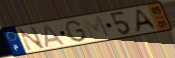5: (109, 9, 132, 37)
A: (135, 8, 160, 34), (43, 24, 67, 49)
G: (63, 19, 89, 43)
M: (81, 14, 113, 42)
N: (18, 25, 48, 53)
